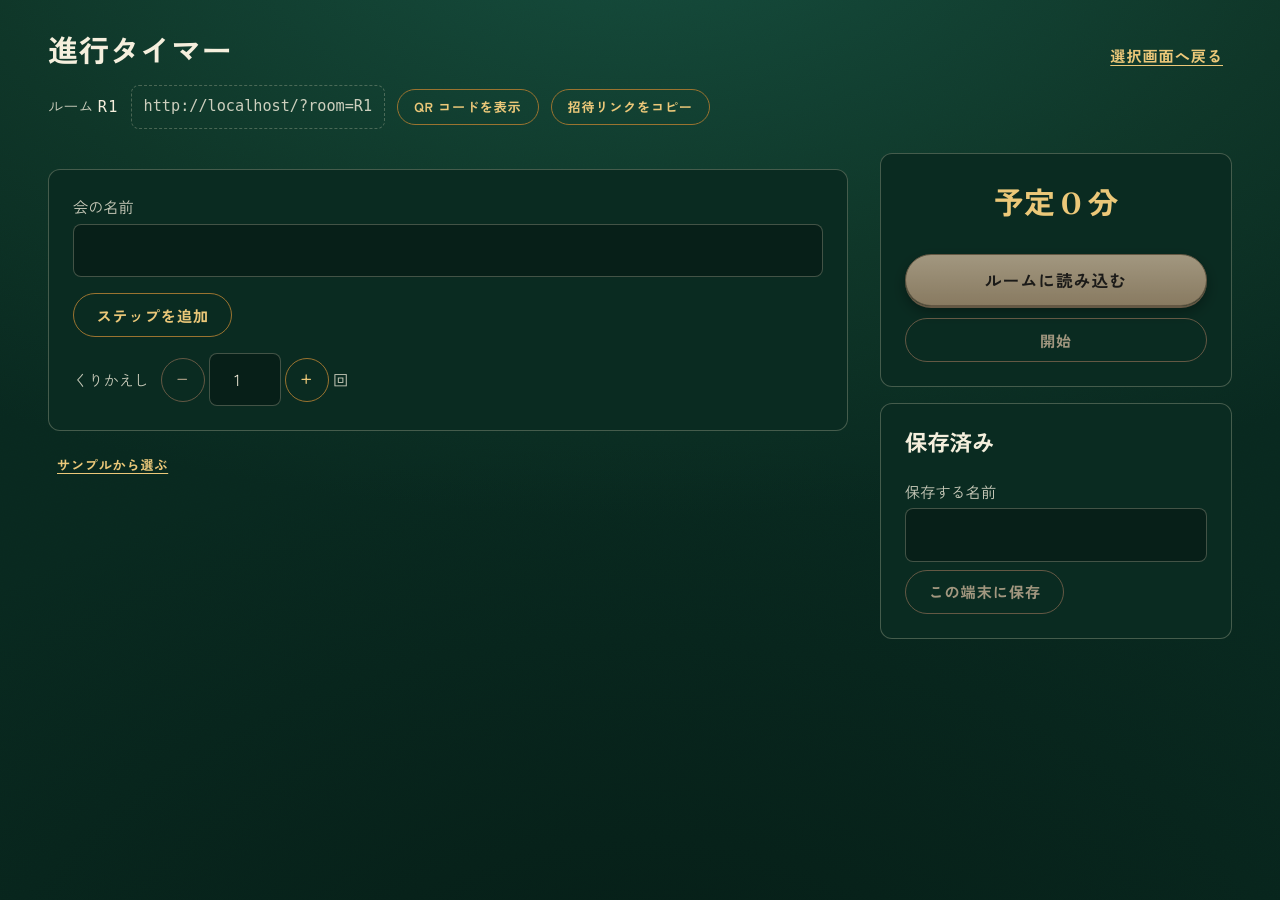
Test case: サンプルから選ぶ › Given 一覧は閉じている / When 押す・もう一度押す / Then aria-expanded が true、false になり、aria-controls が一覧を指す
Click the button "サンプルから選ぶ". click: (113, 465)
box: x1=48 y1=447 x2=177 y2=483
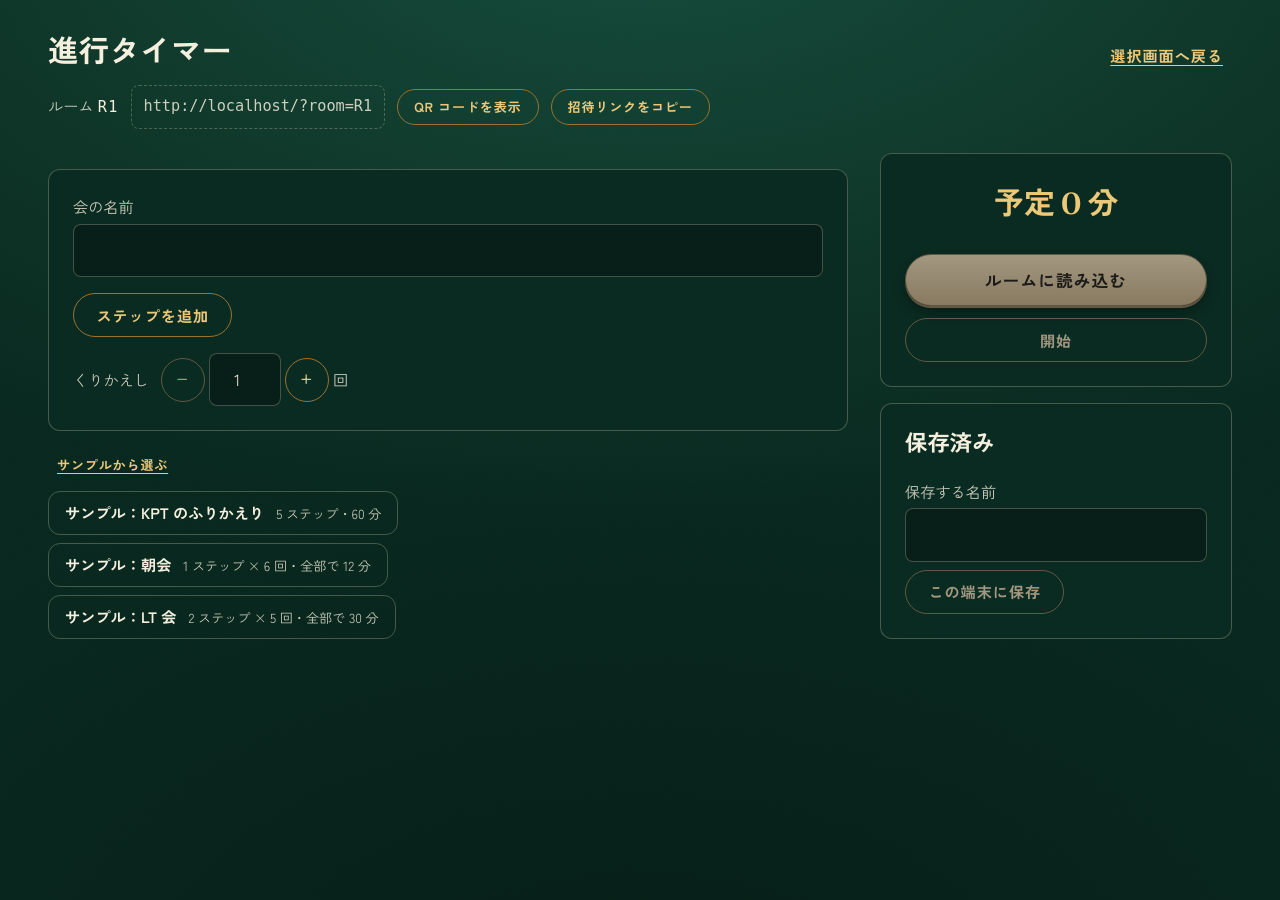
expect the number of buttons "サンプル：KPT のふりかえり 5 ステップ・60 分" is 3: met, box x1=48 y1=491 x2=398 y2=535; x1=48 y1=543 x2=388 y2=587; x1=48 y1=595 x2=396 y2=639
Click the button "サンプルから選ぶ". click: (113, 465)
box: x1=48 y1=447 x2=177 y2=483
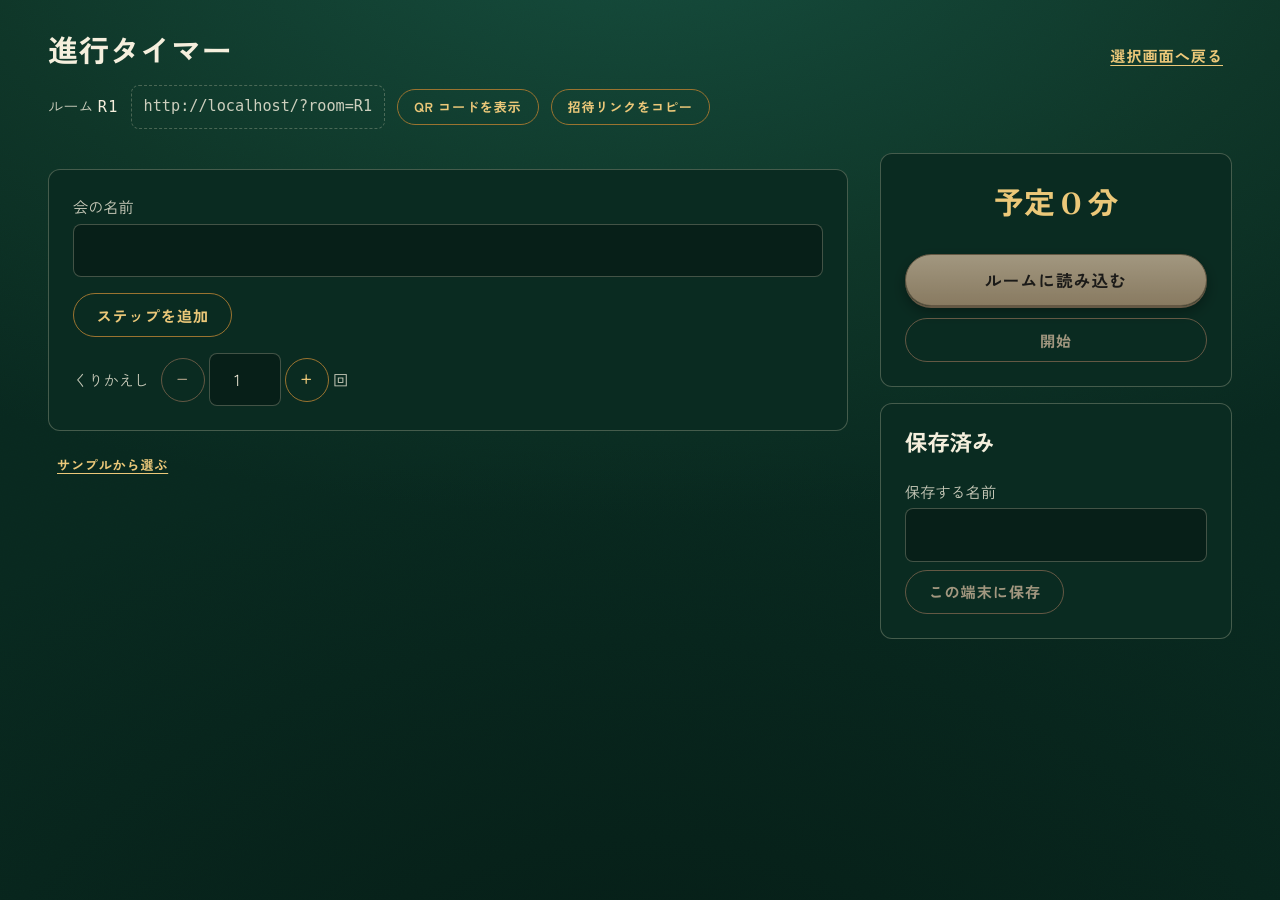
expect no buttons "サンプル：" are shown: met
